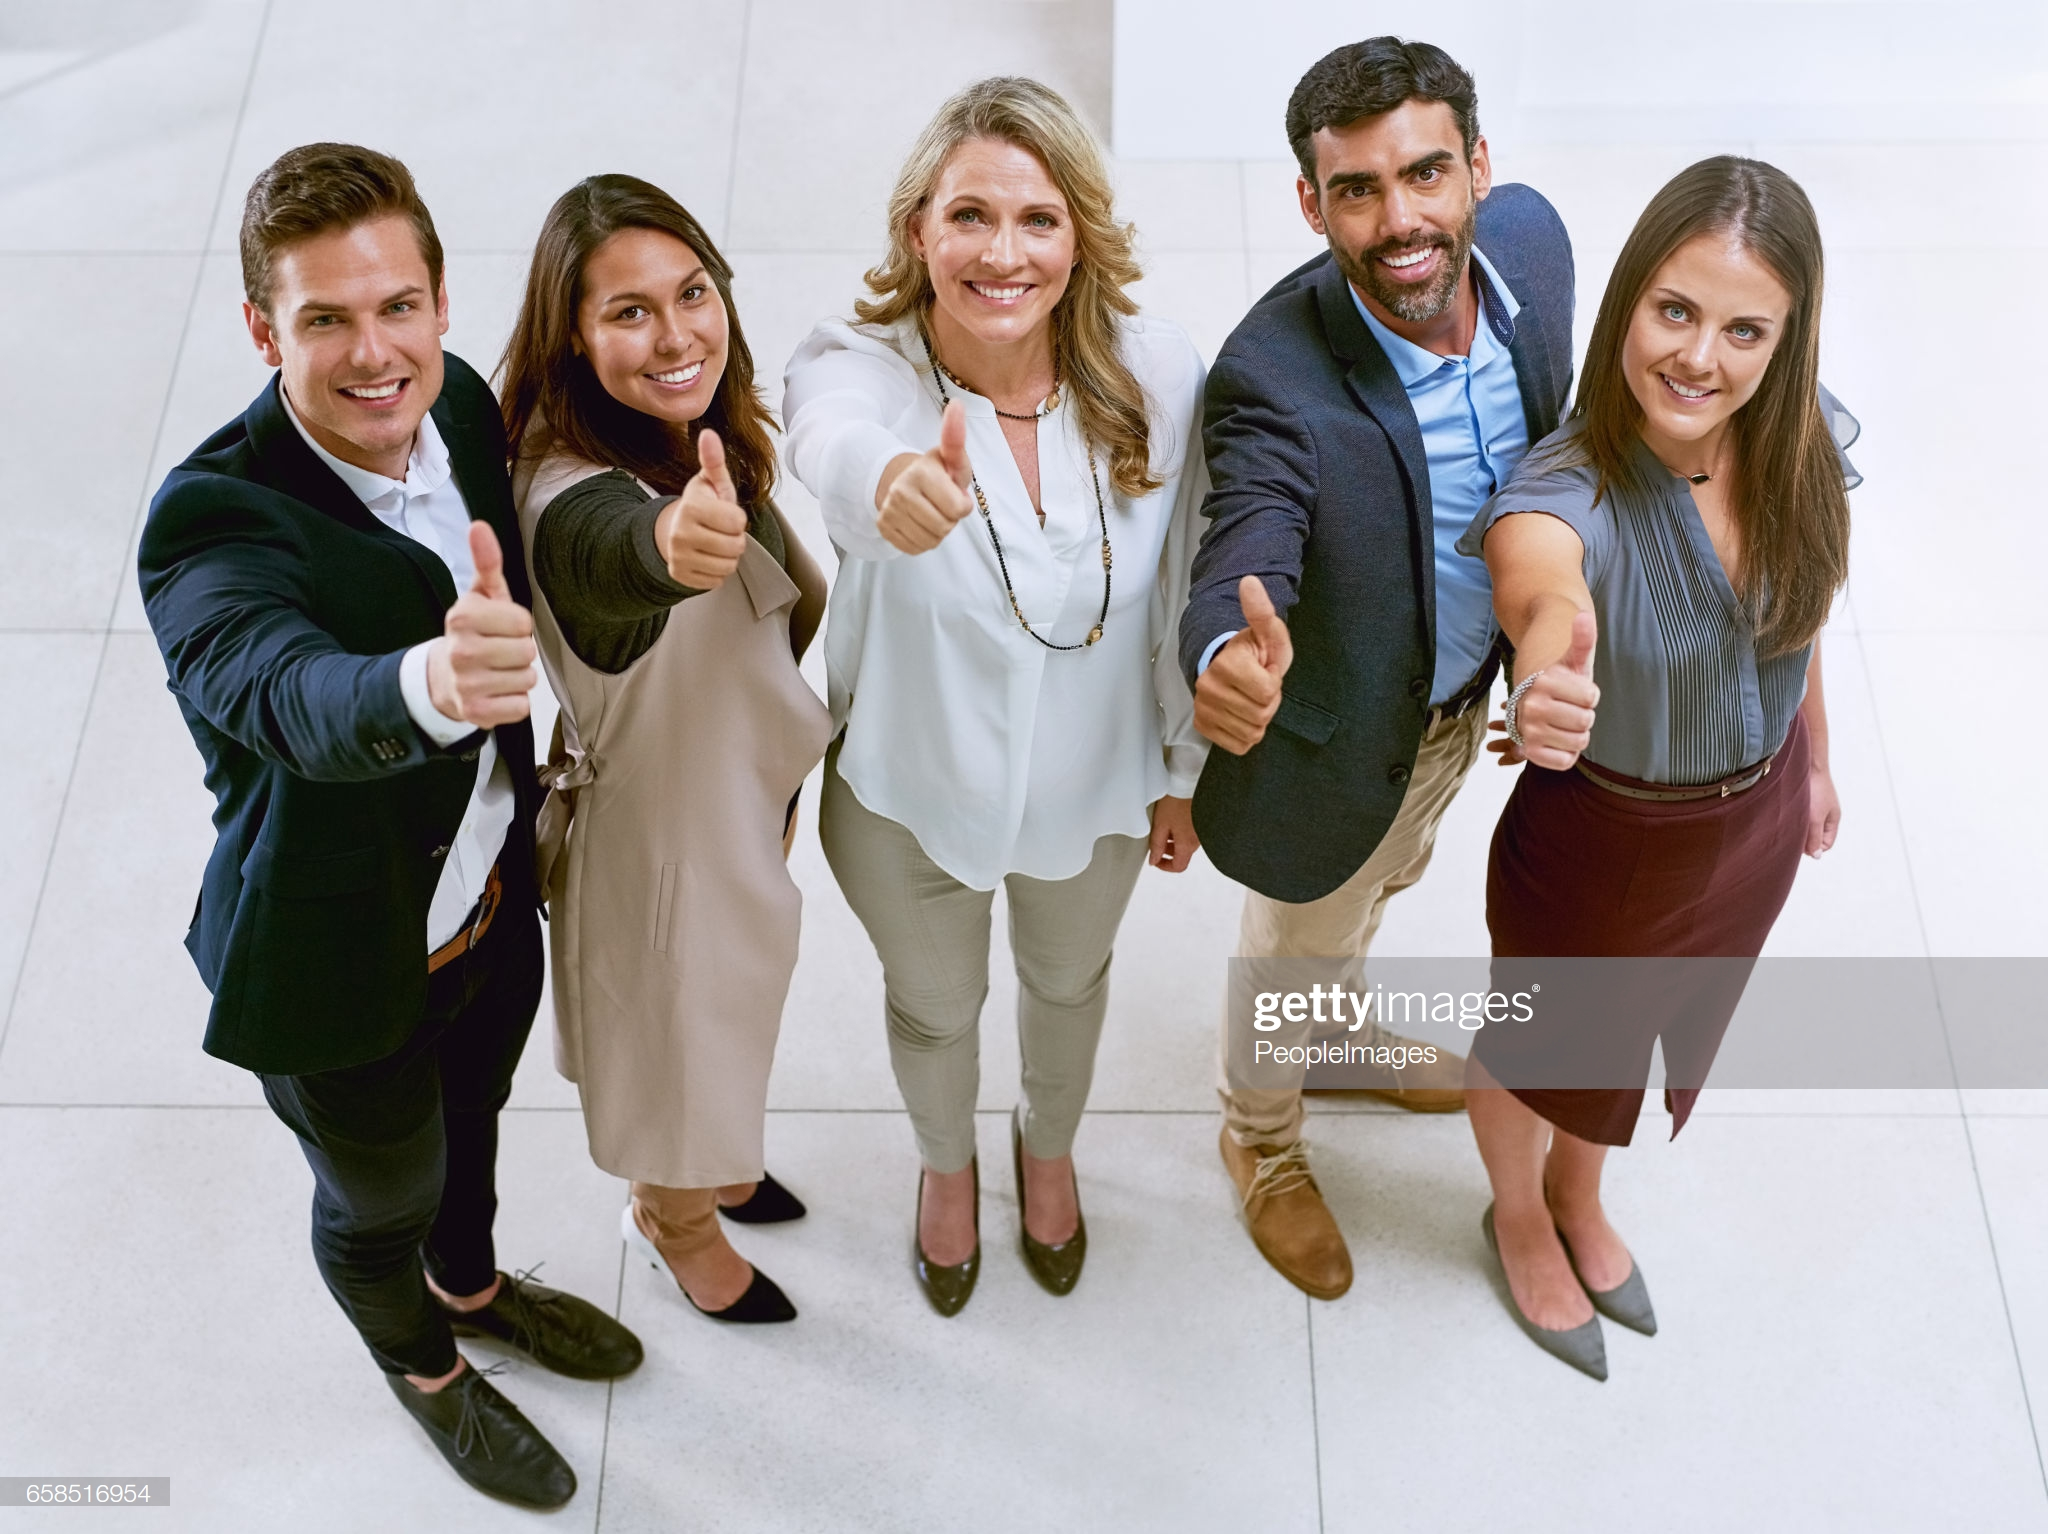thumbsup: (445, 520, 538, 728), (1191, 574, 1287, 756), (877, 400, 975, 554), (1519, 612, 1602, 772), (667, 429, 748, 590)
